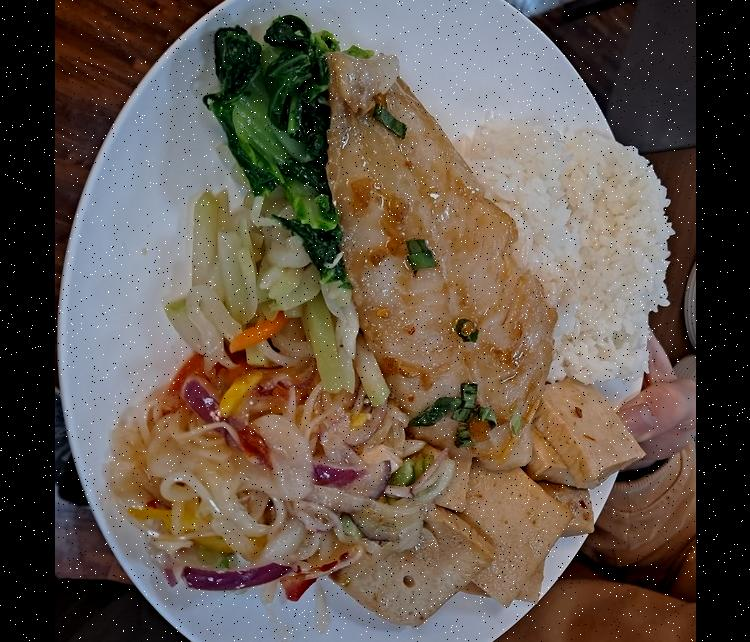plate: (54, 0, 658, 642)
side dish: (330, 395, 636, 631), (111, 376, 438, 595), (203, 21, 340, 284), (170, 199, 364, 375)
steamed fish fillet: (324, 43, 557, 474)
white rice: (458, 121, 676, 389)
